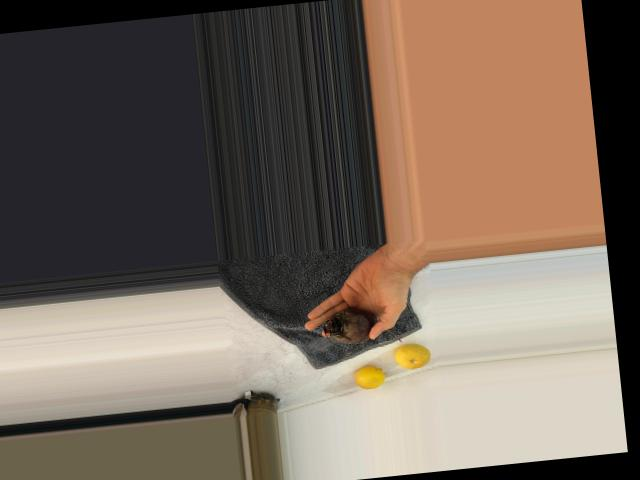beet: (321, 302, 402, 350)
